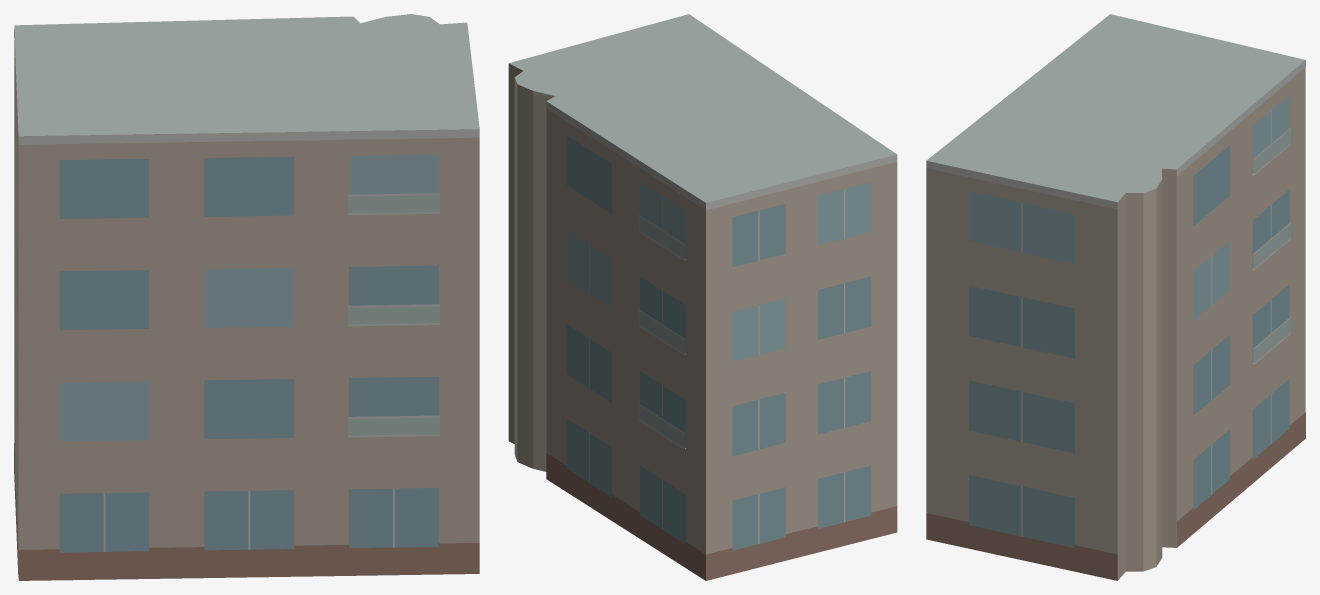
File: survey-upis-32970267.glb
3 renders of one model, left to right at view 1: azimuth 30°, elevation 25°; view 2: azimuth 150°, elevation 25°; view 3: azimuth 270°, elevation 25°, orthographic. The views are drawn at different scales.
Parts seen in each view (by area): view 1: survey-upis-32970267.tmp; view 2: survey-upis-32970267.tmp; view 3: survey-upis-32970267.tmp.
Boxes of the visible parts, box(x1,y1,x2,y2) form: survey-upis-32970267.tmp: box(14, 14, 479, 580); survey-upis-32970267.tmp: box(508, 14, 897, 580); survey-upis-32970267.tmp: box(926, 14, 1305, 580).
Size of the model in its own units: 13.55 by 12.7 by 11.55.
